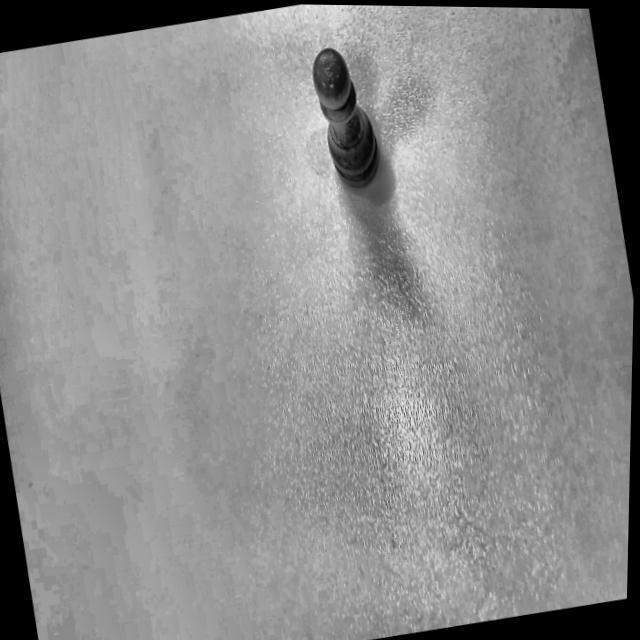black-pawn: (294, 34, 391, 201)
